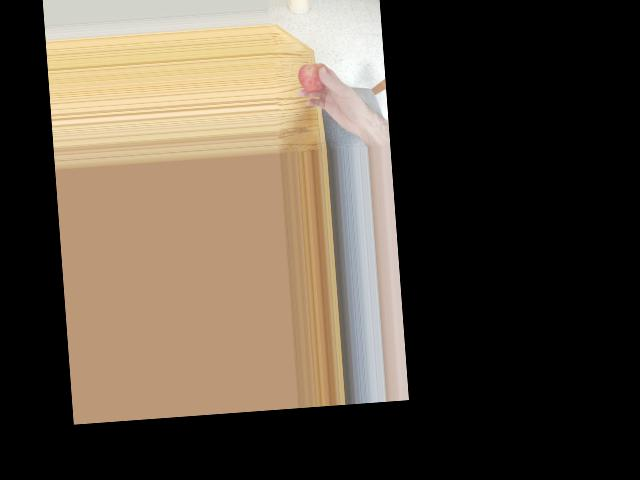apple: (298, 60, 330, 93)
